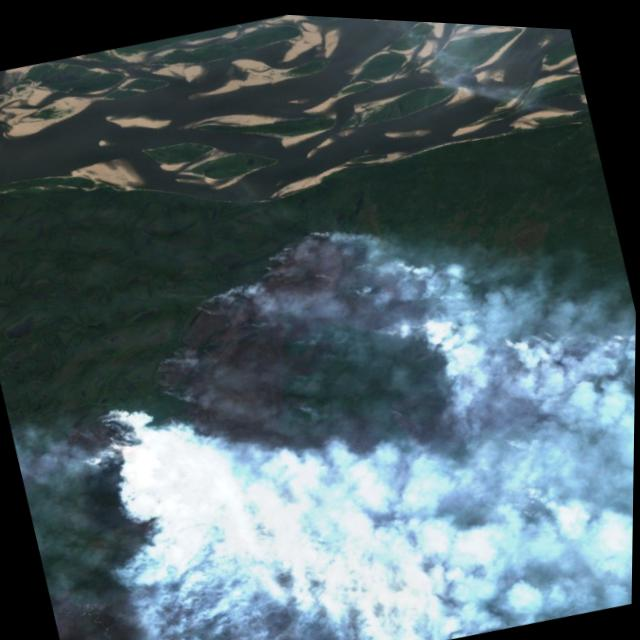fire: (45, 380, 213, 591), (423, 289, 637, 453), (330, 215, 475, 349), (486, 436, 575, 525)
